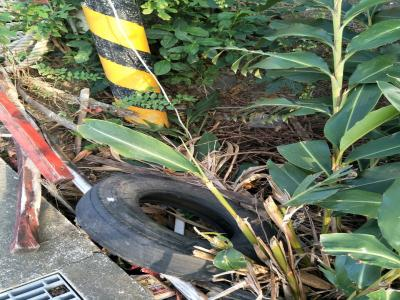tire: (66, 168, 276, 284)
